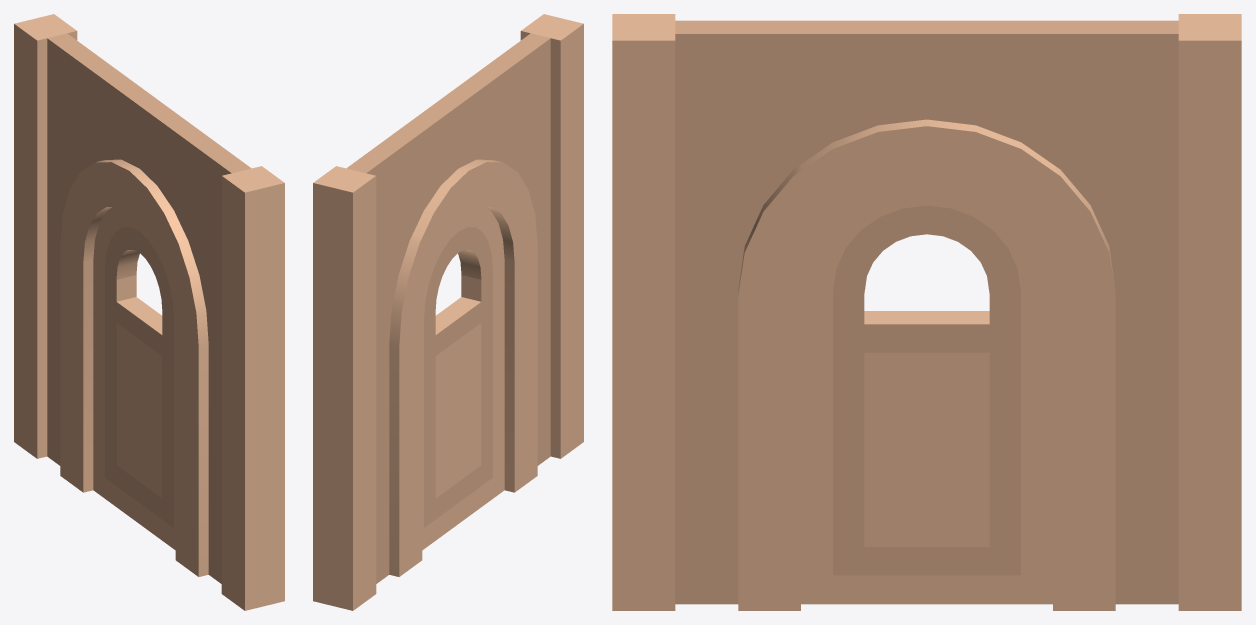
File: wallWoodDoor.glb
The picture shows the model from 3 angles, left to right: view 1: azimuth 30°, elevation 25°; view 2: azimuth 150°, elevation 25°; view 3: azimuth 270°, elevation 25°; orthographic projection. The views are drawn at different scales.
Visible parts, largest first — view 1: wallWoodDoor, door.001; view 2: wallWoodDoor, door.001; view 3: wallWoodDoor, door.001.
Part boxes in pixels (left/top/right/bottom): wallWoodDoor: left=14, top=14, right=284, bottom=610; door.001: left=93, top=207, right=175, bottom=550; wallWoodDoor: left=313, top=14, right=583, bottom=610; door.001: left=422, top=207, right=504, bottom=550; wallWoodDoor: left=612, top=14, right=1241, bottom=610; door.001: left=801, top=183, right=1052, bottom=604.
Size of the model in its own units: 0.1 by 1 by 1.
